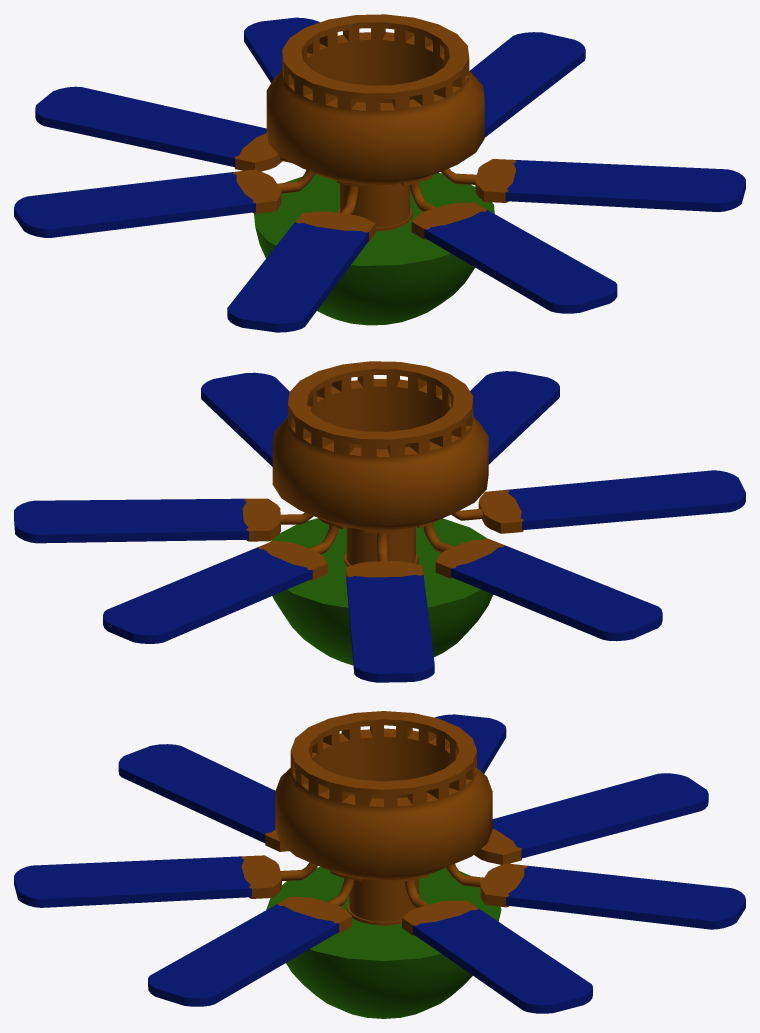
Rendered from CeleingLight_low.fbx.
The picture shows the model from 3 angles, top to bottom: view 1: azimuth 30°, elevation 25°; view 2: azimuth 150°, elevation 25°; view 3: azimuth 270°, elevation 25°; orthographic projection.
Visible parts, largest first — view 1: Blade9, HousingUnit1; view 2: Blade9, HousingUnit1; view 3: Blade9, HousingUnit1.
Part boxes in pixels (box(x1,y1,x2,y2)): Blade9: box(14, 17, 745, 332); HousingUnit1: box(254, 14, 494, 325); Blade9: box(14, 371, 745, 682); HousingUnit1: box(270, 361, 493, 665); Blade9: box(14, 714, 745, 1013); HousingUnit1: box(266, 711, 501, 1018).
Size of the model in its own units: 11.01 by 4.56 by 11.71.
